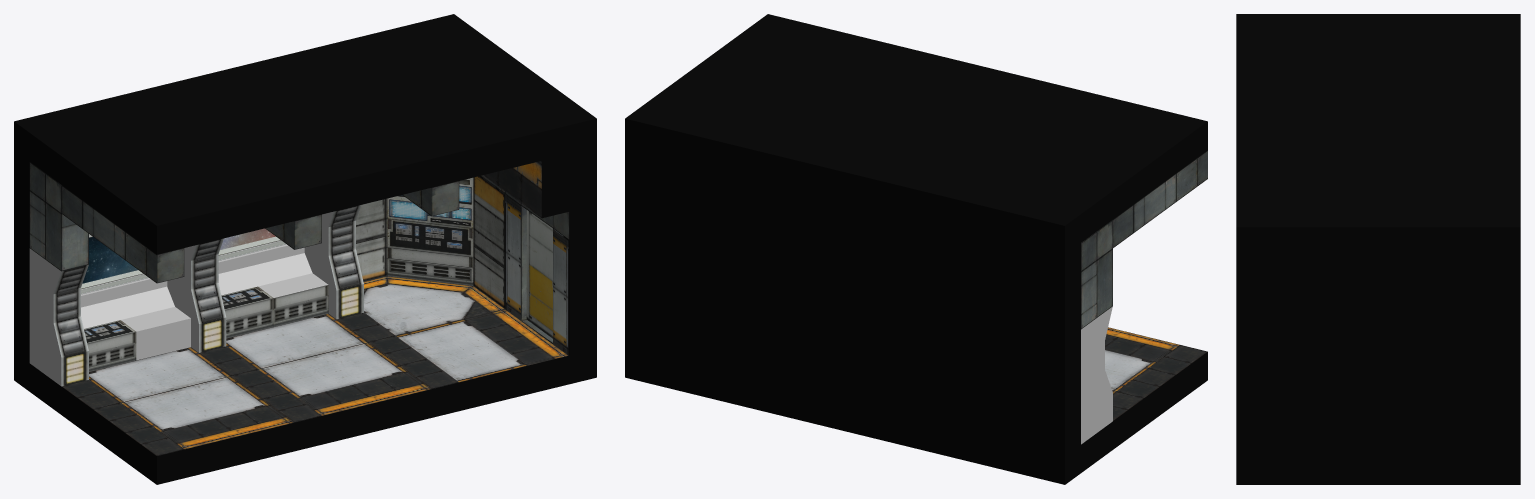
The picture shows the model from 3 angles, left to right: view 1: azimuth 30°, elevation 25°; view 2: azimuth 150°, elevation 25°; view 3: azimuth 270°, elevation 25°; orthographic projection.
Visible parts, largest first — view 1: black, Plane_hp, sky_lp; view 2: black, Plane_hp; view 3: black.
Boxes of the visible parts, x1,y1,x2,y2 form: black: (14,14,596,484); Plane_hp: (29,161,569,455); sky_lp: (82,228,275,283); black: (625,14,1207,484); Plane_hp: (1081,150,1207,444); black: (1236,14,1520,484).
Bounding box in the file's own units: 64.03 × 36 × 36.
